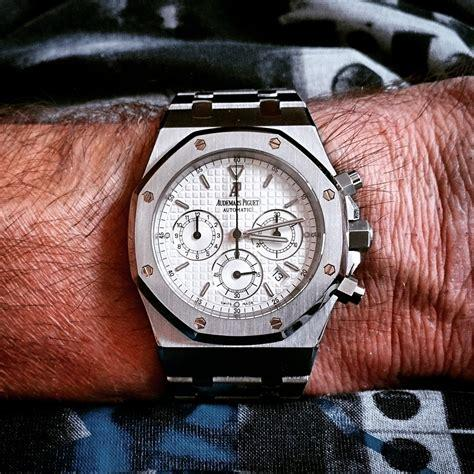Watch: (124, 84, 372, 401)
